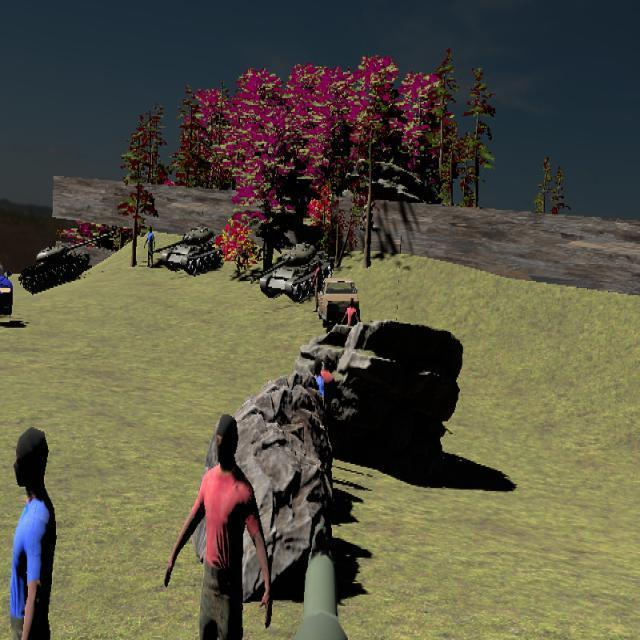Human: (164, 411, 274, 640), (6, 423, 58, 639)
Tank: (19, 231, 112, 294), (258, 240, 333, 304), (154, 224, 224, 277)
car: (317, 275, 360, 333), (0, 258, 14, 326)
